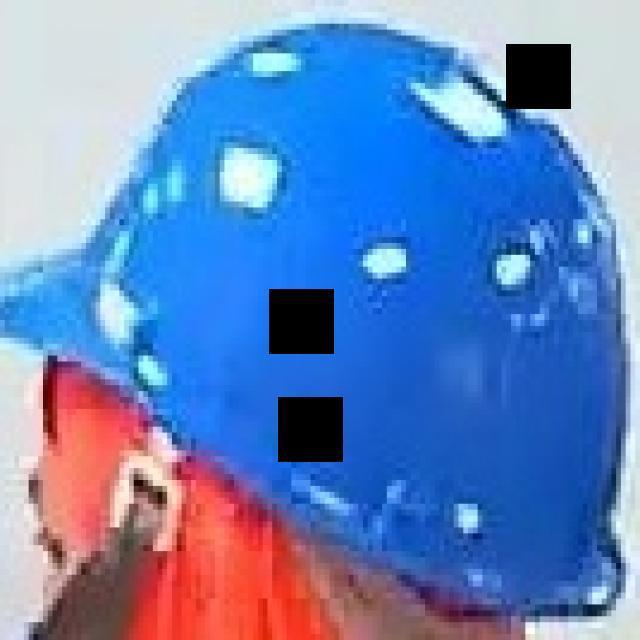blue helmet: (1, 19, 640, 614)
